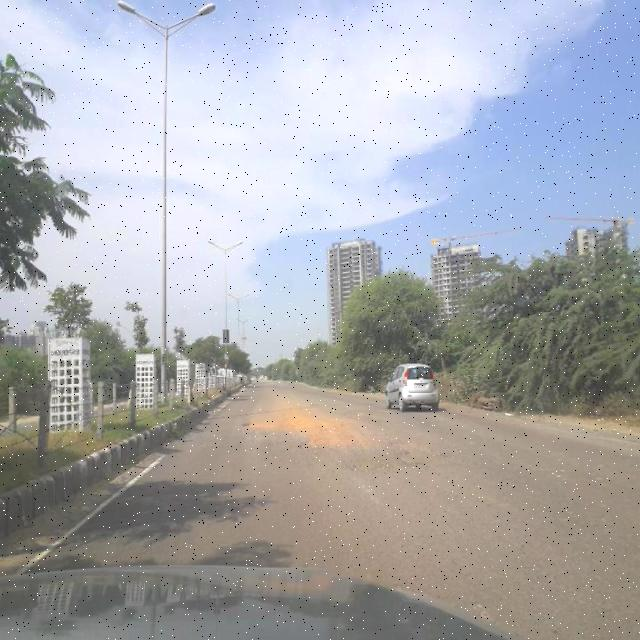D40: (234, 401, 376, 451), (377, 436, 467, 471)
D44: (339, 459, 394, 519), (455, 585, 518, 629)
